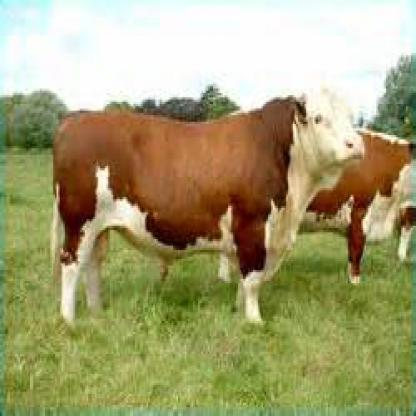cow: (52, 86, 366, 323)
